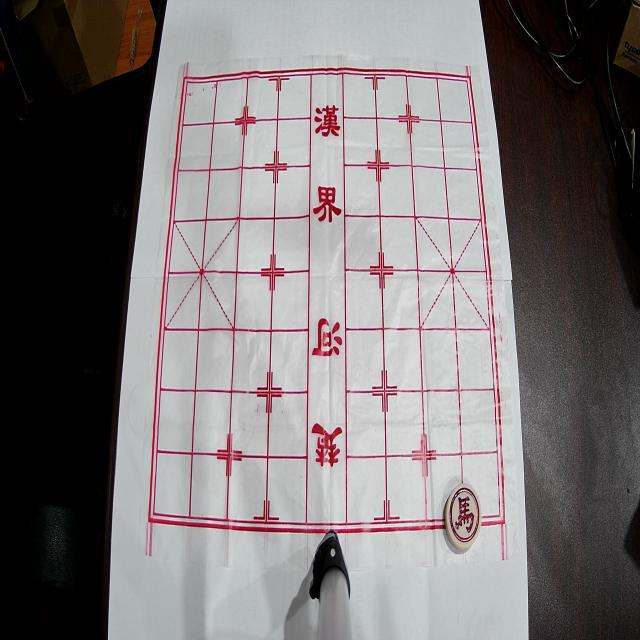red-horse: (445, 483, 482, 550)
